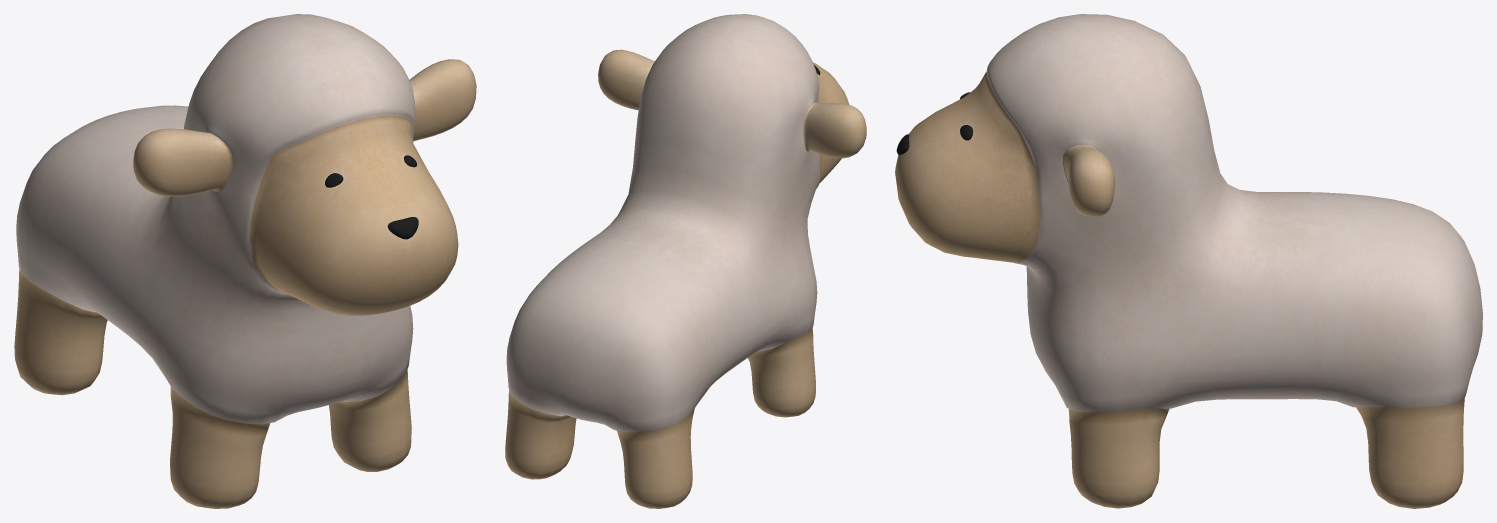
The model's file is oveja.glb.
The picture shows the model from 3 angles, left to right: view 1: azimuth 30°, elevation 25°; view 2: azimuth 150°, elevation 25°; view 3: azimuth 270°, elevation 25°; orthographic projection. The views are drawn at different scales.
Visible parts, largest first — view 1: Cube.010, Cube.011; view 2: Cube.010; view 3: Cube.010.
Boxes of the visible parts, left/top/right/bottom form: Cube.010: left=14, top=14, right=476, bottom=508; Cube.011: left=387, top=217, right=418, bottom=239; Cube.010: left=505, top=14, right=866, bottom=508; Cube.010: left=895, top=14, right=1482, bottom=508.
Size of the model in its own units: 0.8499 by 1.12 by 1.36.
1 material, 1 textured.
